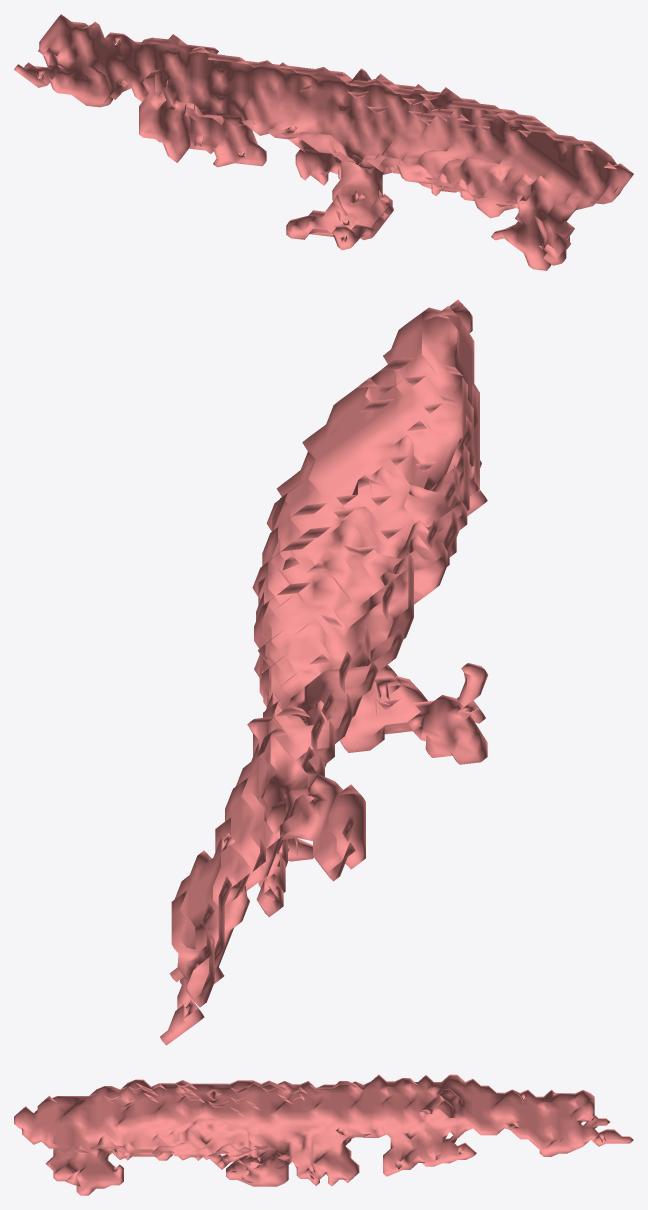
File: osteocyte_9.glb
The picture shows the model from 3 angles, top to bottom: view 1: azimuth 30°, elevation 25°; view 2: azimuth 150°, elevation 25°; view 3: azimuth 270°, elevation 25°; orthographic projection. The views are drawn at different scales.
Visible parts, largest first — view 1: osteocyte_9; view 2: osteocyte_9; view 3: osteocyte_9.
Boxes of the visible parts, bbox=[...] form: osteocyte_9: bbox=[14, 14, 633, 270]; osteocyte_9: bbox=[160, 299, 487, 1045]; osteocyte_9: bbox=[14, 1074, 633, 1195].
Size of the model in its own units: 12.07 by 7.6 by 35.32.
